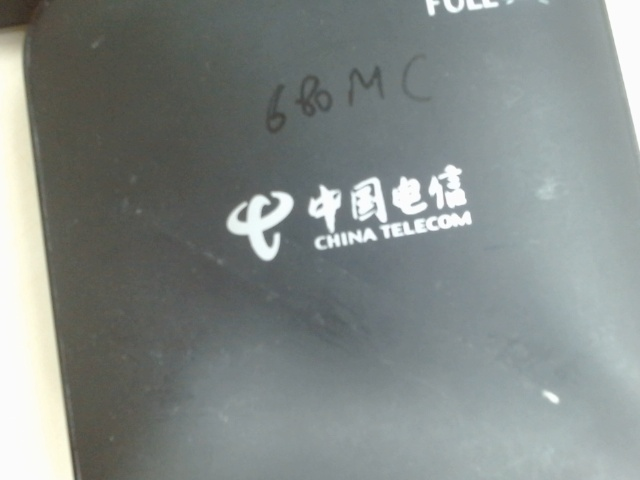AB_ChinaTelecom: (215, 158, 498, 281)
